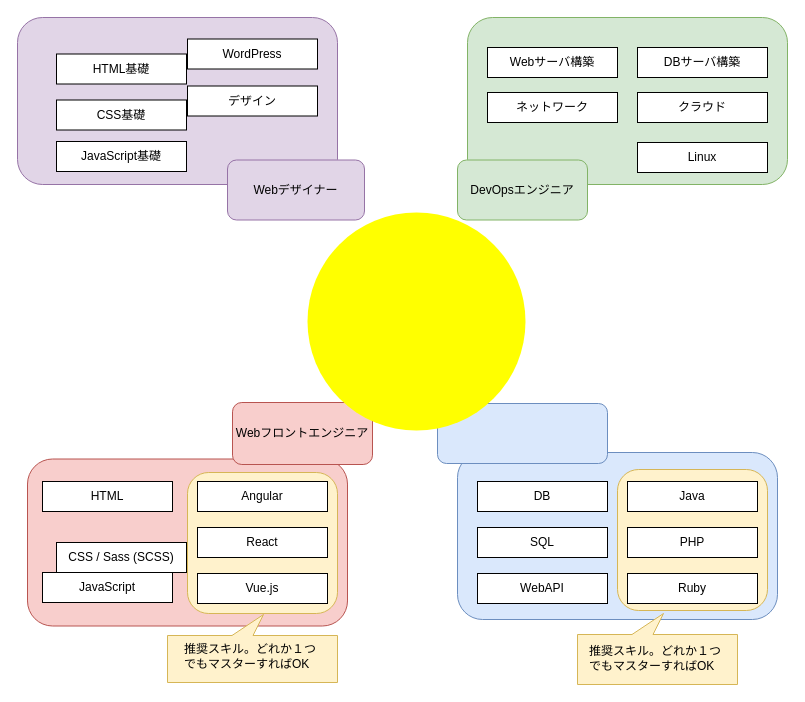
Some shapes in this 805 by 702 pixel diagram are drawn without their labels. The box of each missing label's shape, as (x1, y1, x2, y2) in pixels:
Webエンジニア (フルスタックエンジニア): (307, 212, 525, 430)
Webサーバサイドエンジニア: (436, 402, 608, 464)
